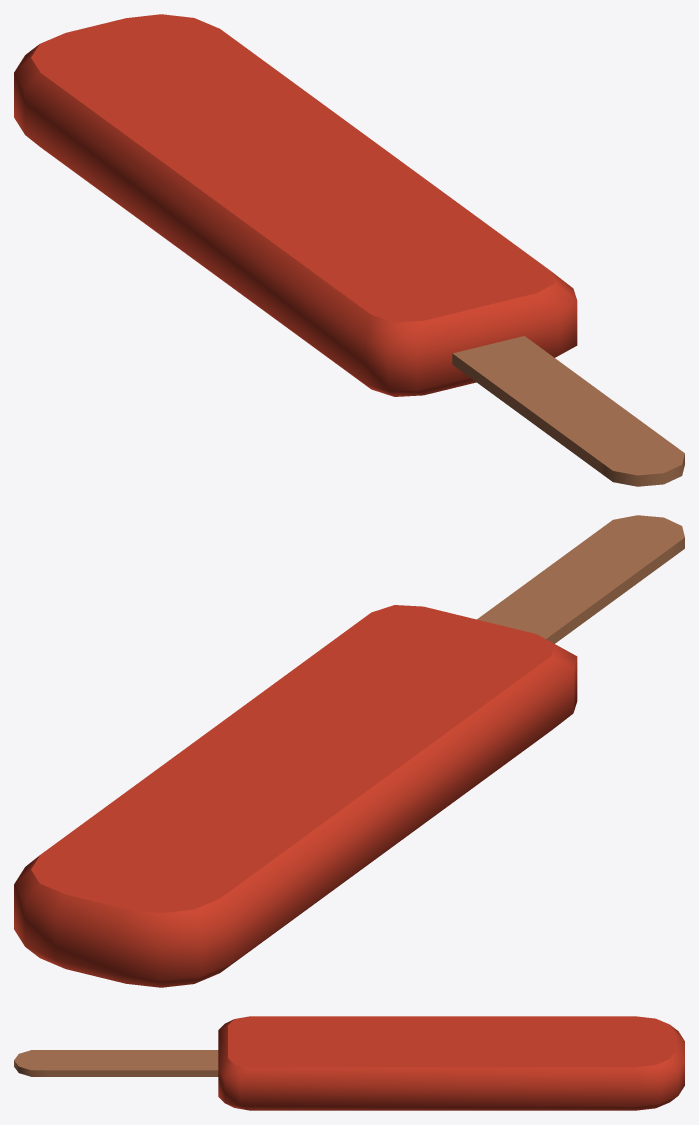
Rendered from Popsicle_01.fbx.
3 renders of one model, top to bottom at view 1: azimuth 30°, elevation 25°; view 2: azimuth 150°, elevation 25°; view 3: azimuth 270°, elevation 25°, orthographic. The views are drawn at different scales.
Parts seen in each view (by area): view 1: Popsicle_01; view 2: Popsicle_01; view 3: Popsicle_01.
Part boxes in pixels (x1,y1,x2,y2): Popsicle_01: (14,14,684,486); Popsicle_01: (14,515,684,987); Popsicle_01: (14,1016,684,1110).
Bounding box in the file's own units: 0.0333 × 0.0114 × 0.1597.
